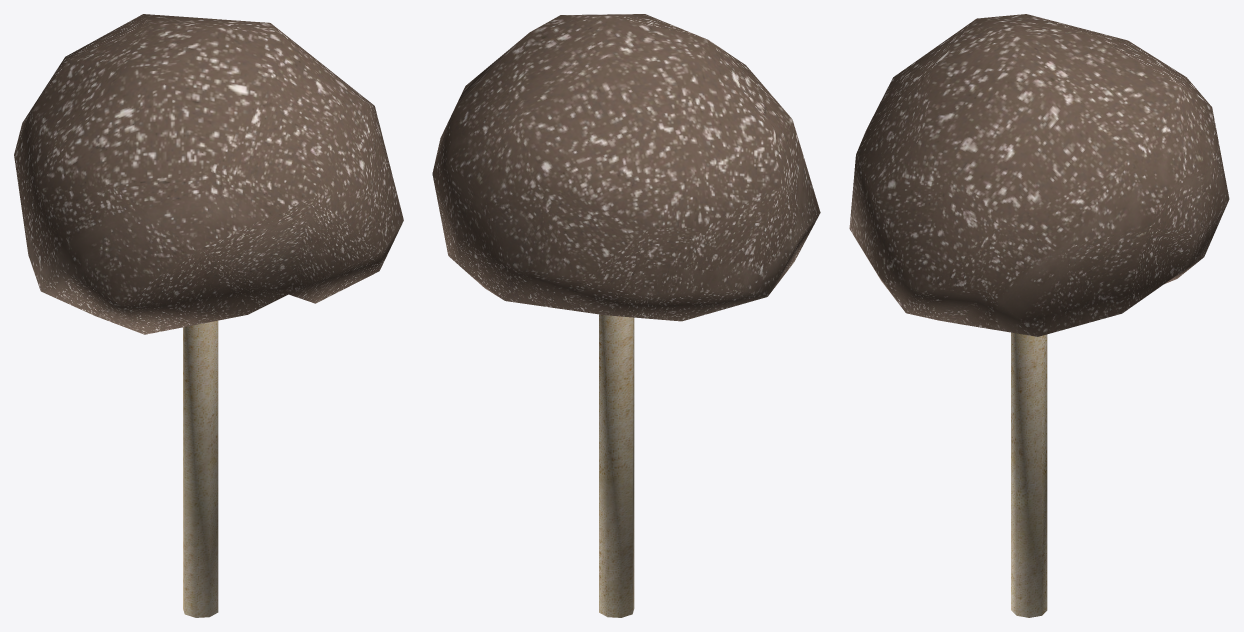
File: shroom.obj
The picture shows the model from 3 angles, left to right: view 1: azimuth 30°, elevation 25°; view 2: azimuth 150°, elevation 25°; view 3: azimuth 270°, elevation 25°; orthographic projection.
Parts seen in each view (by area): view 1: mushroomout; view 2: mushroomout; view 3: mushroomout.
Part boxes in pixels (x1=…): mushroomout: x1=14, y1=14, x2=403, y2=617; mushroomout: x1=432, y1=14, x2=820, y2=617; mushroomout: x1=849, y1=14, x2=1229, y2=617.
Size of the model in its own units: 14.02 by 24.13 by 14.34.
